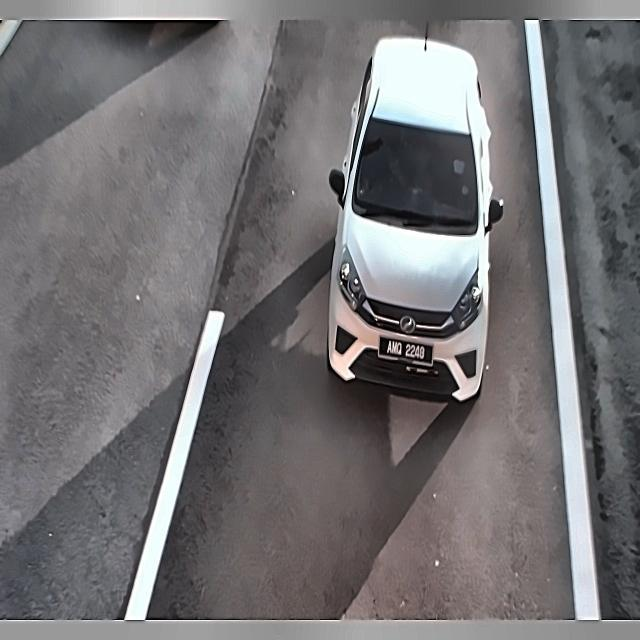car: (374, 332, 438, 372)
